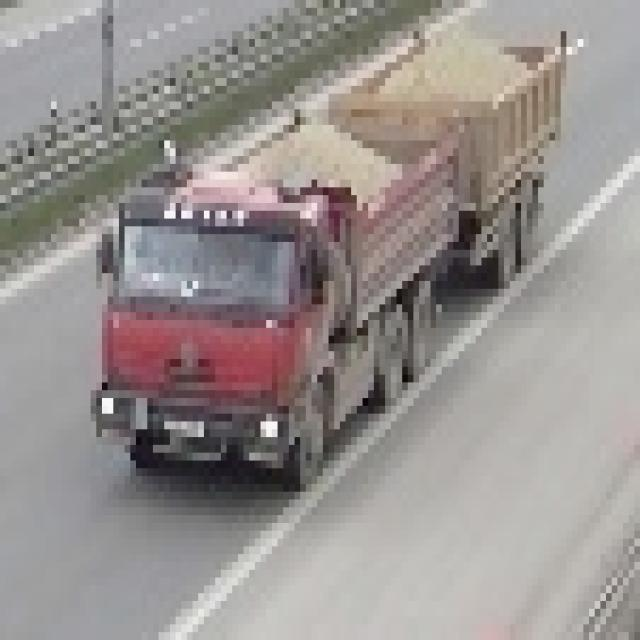truck: (92, 17, 568, 477)
